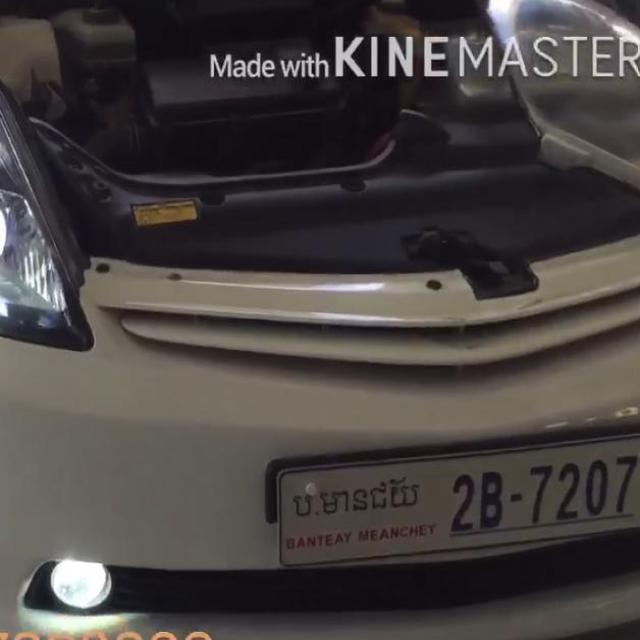Banteay_Meanchey: (294, 477, 419, 519)
